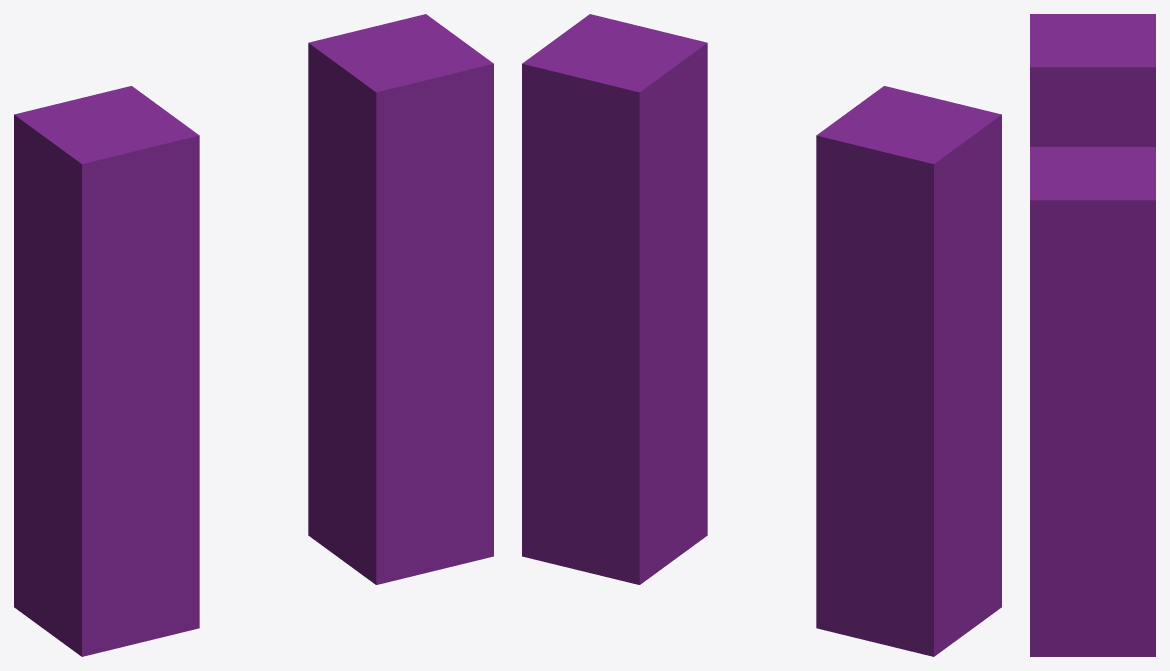
The model's file is legendario_piernas_cultista_01.glb.
The picture shows the model from 3 angles, left to right: view 1: azimuth 30°, elevation 25°; view 2: azimuth 150°, elevation 25°; view 3: azimuth 270°, elevation 25°; orthographic projection. The views are drawn at different scales.
Parts seen in each view (by area): view 1: legendario_piernas_cultista; view 2: legendario_piernas_cultista; view 3: legendario_piernas_cultista.
Part boxes in pixels (<box>): legendario_piernas_cultista: <box>14,14,493,656</box>; legendario_piernas_cultista: <box>522,14,1001,656</box>; legendario_piernas_cultista: <box>1030,14,1155,656</box>.
Size of the model in its own units: 0.5833 by 0.6667 by 0.1667.
